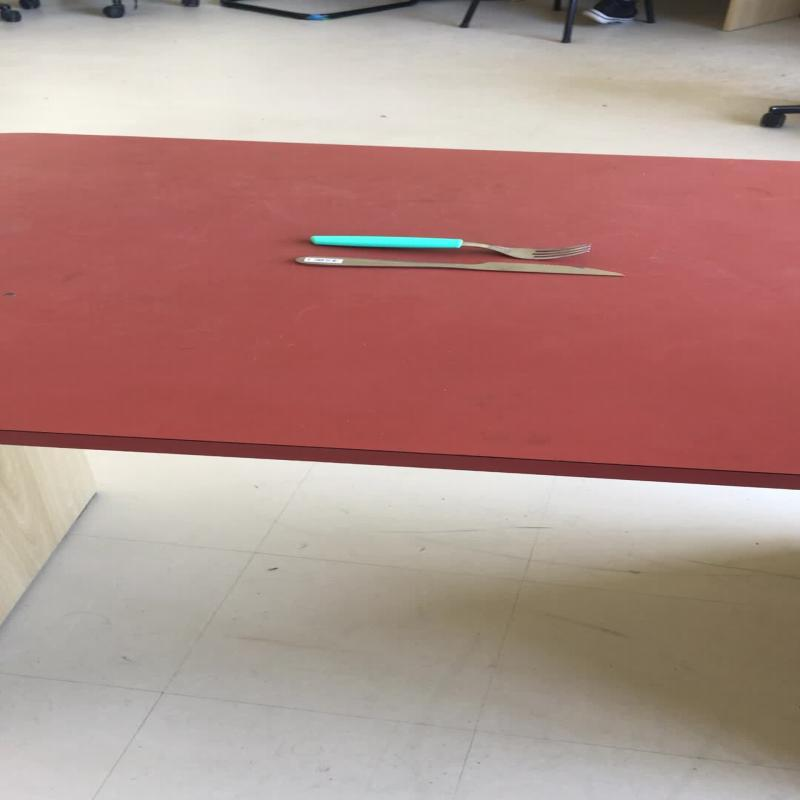fork: (307, 233, 592, 259), (306, 233, 590, 259)
knife: (292, 256, 624, 276)
